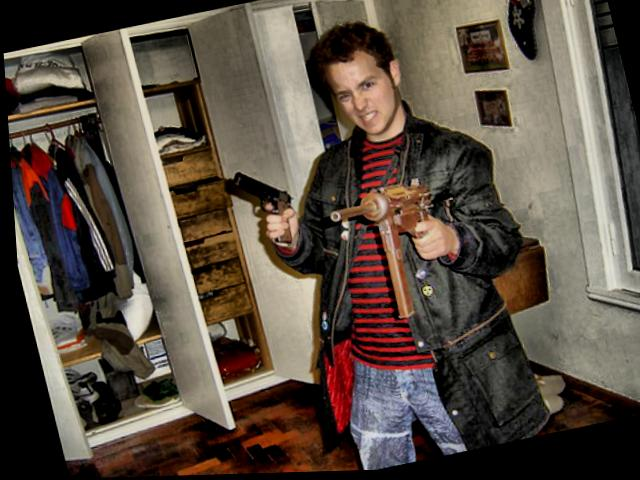pistol: (225, 161, 295, 251)
